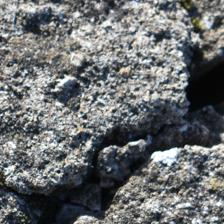Crack: (17, 44, 201, 203), (103, 136, 223, 221)
